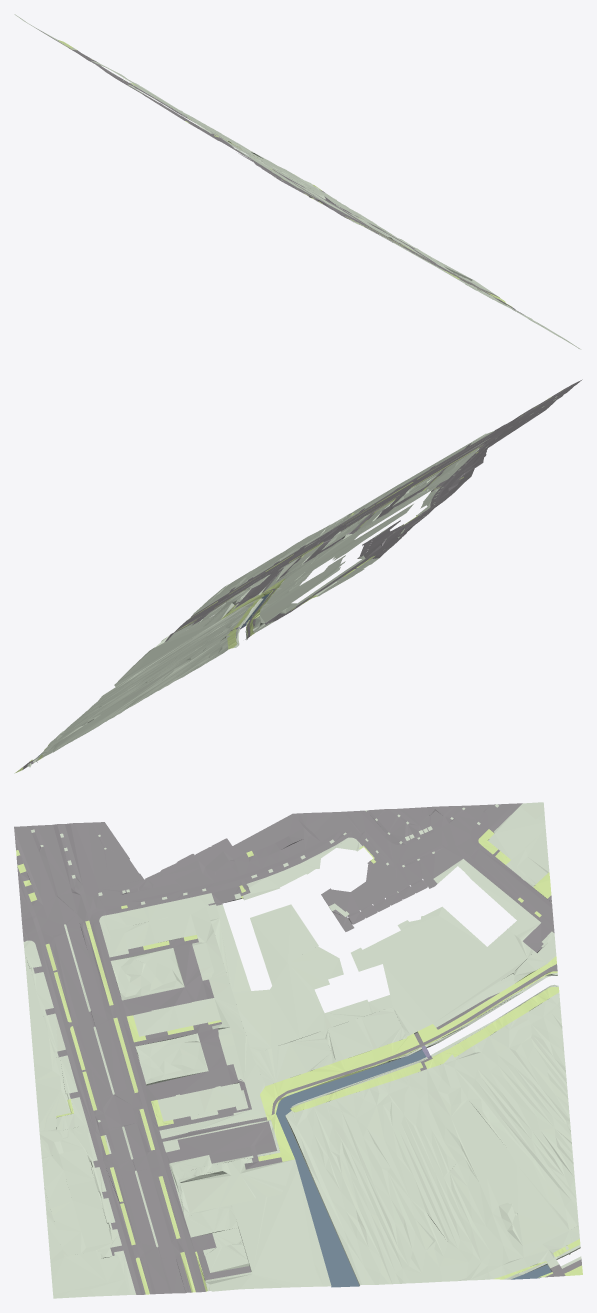
3 views of the same model, one above another, from view 1: azimuth 30°, elevation 25°; view 2: azimuth 150°, elevation 25°; view 3: azimuth 270°, elevation 25° (orthographic). The views are drawn at different scales.
Bounding box in the file's own units: 218 × 156 × 268.
